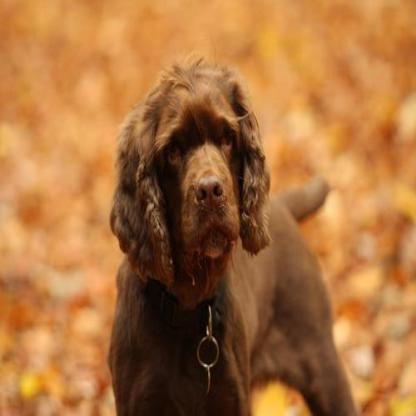Sussex_spaniel: (103, 51, 362, 414)
